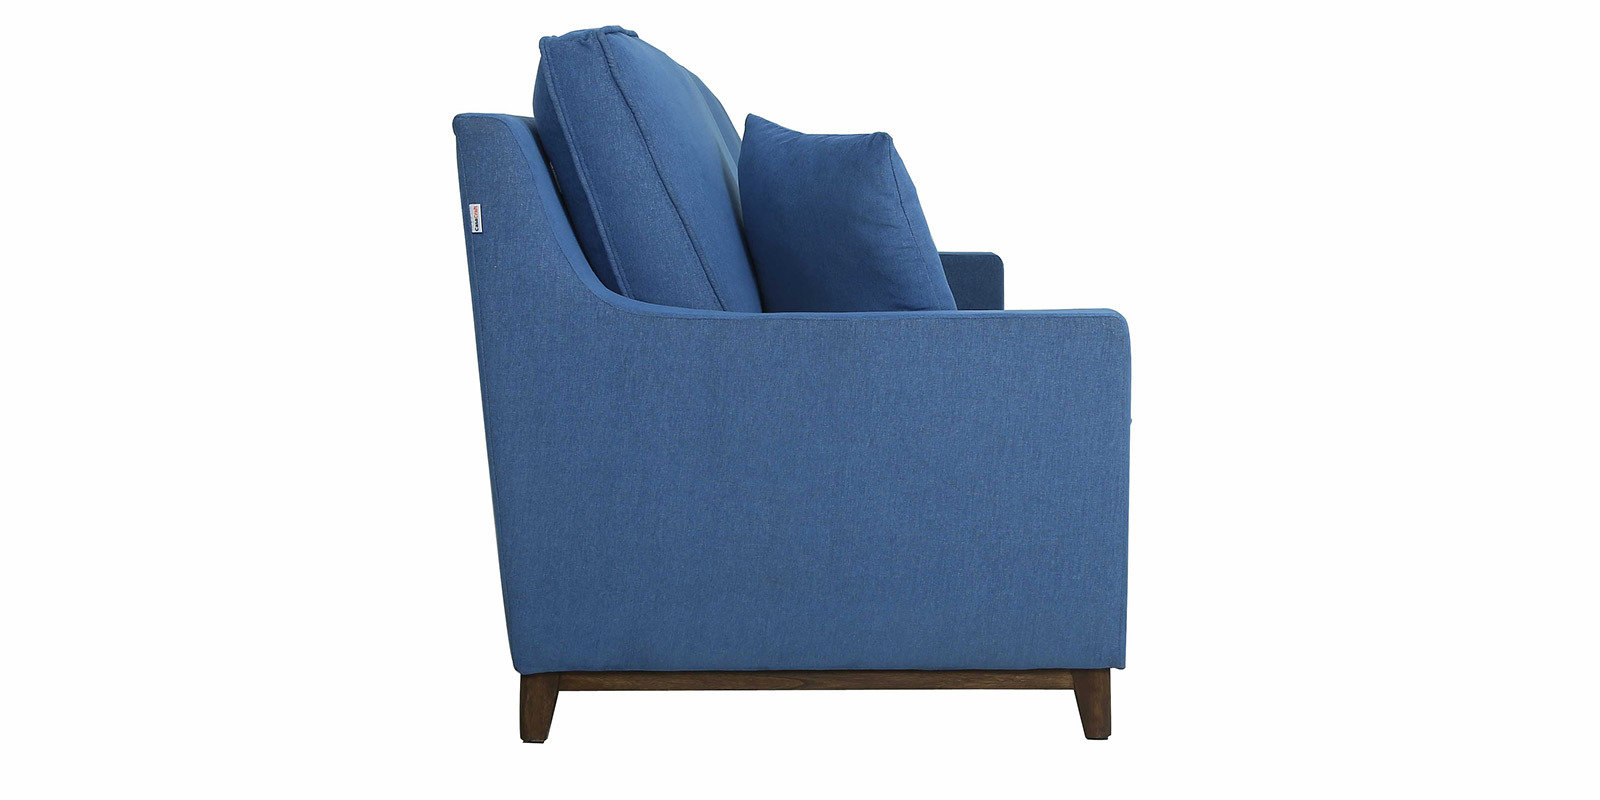Diego Three Seater Sofa in Denim Blue Colour by CasaCraft: (451, 16, 1148, 772)
